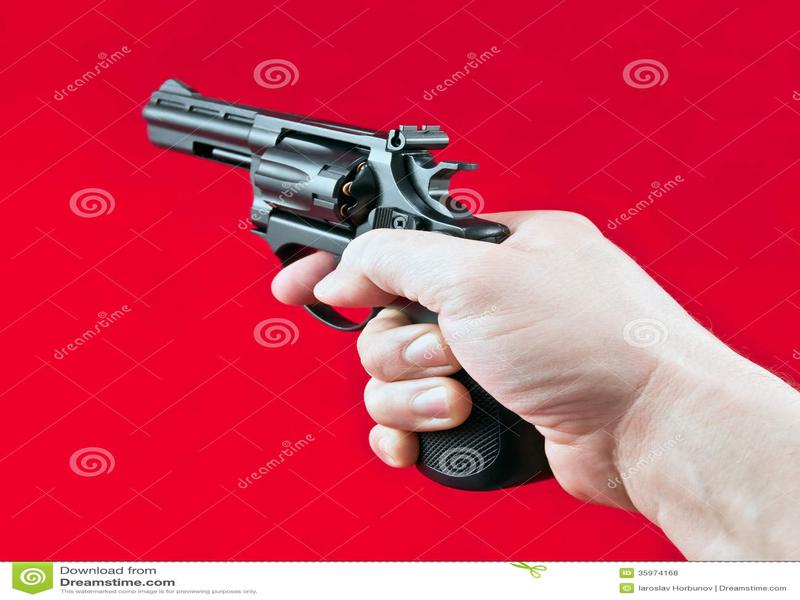Revolver: (132, 63, 523, 419)
